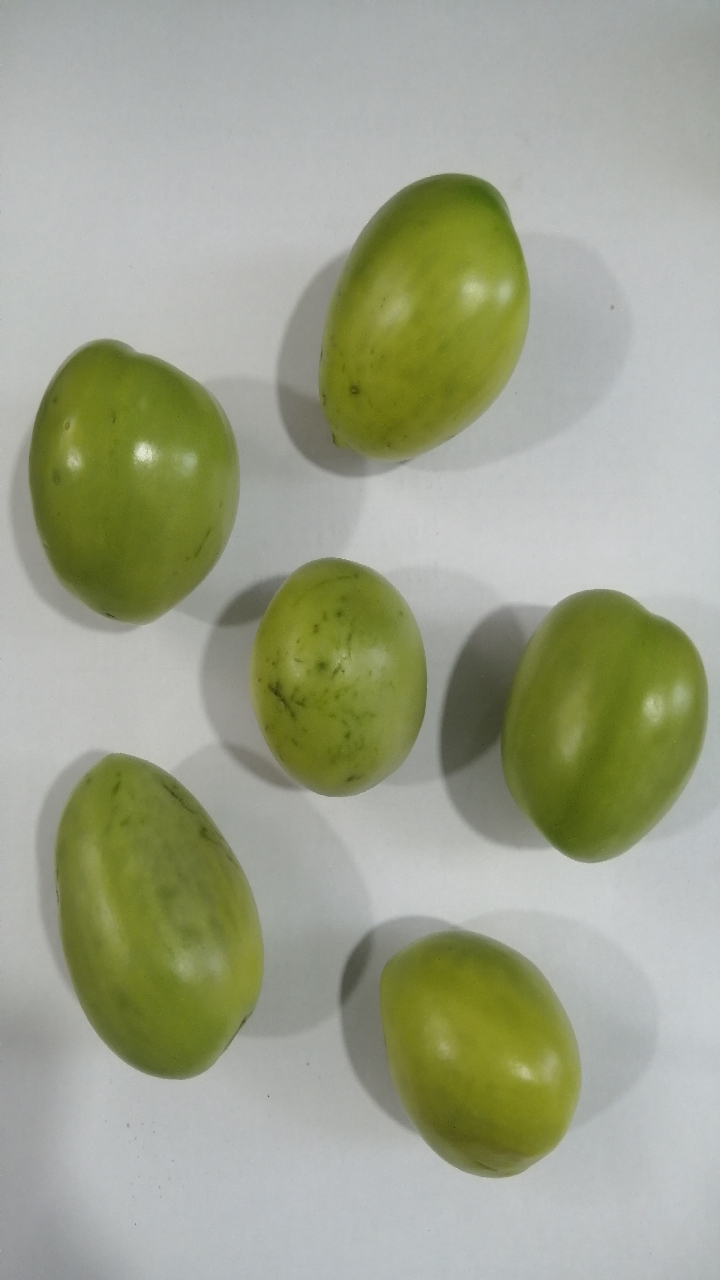tomateVerde: (24, 723, 292, 1095), (275, 142, 548, 472), (6, 317, 258, 651), (484, 575, 720, 894), (352, 914, 597, 1206), (231, 532, 446, 812)
